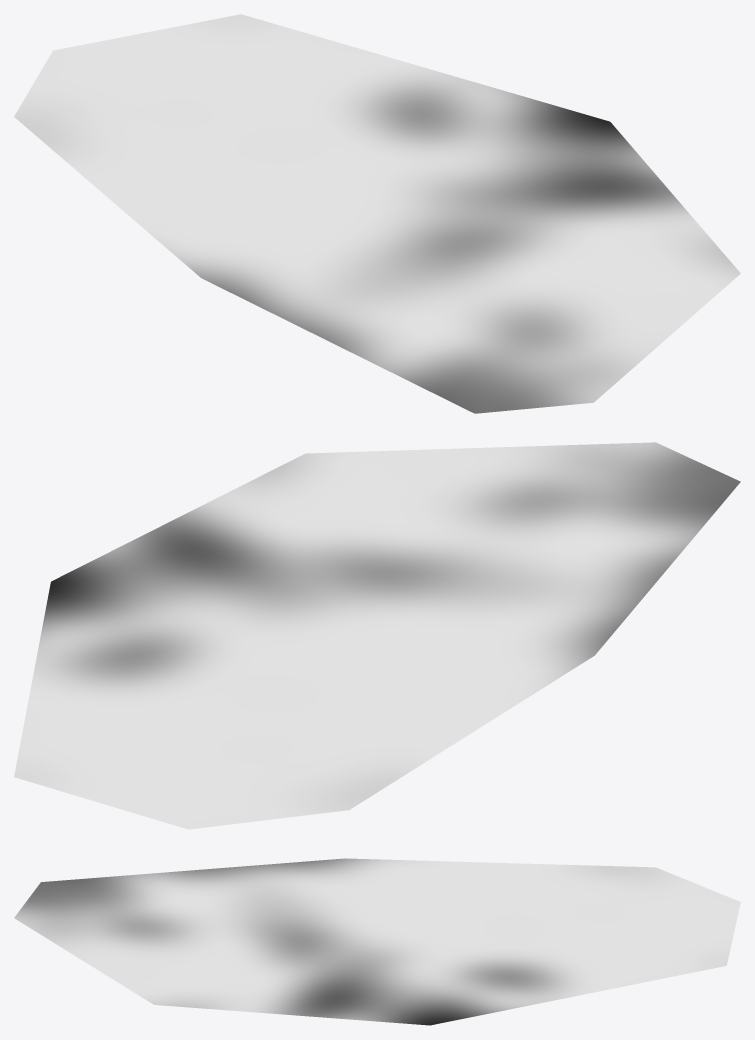
File: SM_Cloud_02.fbx
3 renders of one model, top to bottom at view 1: azimuth 30°, elevation 25°; view 2: azimuth 150°, elevation 25°; view 3: azimuth 270°, elevation 25°, orthographic. The views are drawn at different scales.
Parts seen in each view (by area): view 1: SM_Cloud_02_LOD0; view 2: SM_Cloud_02_LOD0; view 3: SM_Cloud_02_LOD0.
Boxes of the visible parts, x1,y1,x2,y2 form: SM_Cloud_02_LOD0: [14, 14, 740, 413]; SM_Cloud_02_LOD0: [14, 442, 740, 829]; SM_Cloud_02_LOD0: [14, 858, 740, 1025].
Bounding box in the file's own units: 275 × 506 × 3.35e-06.
